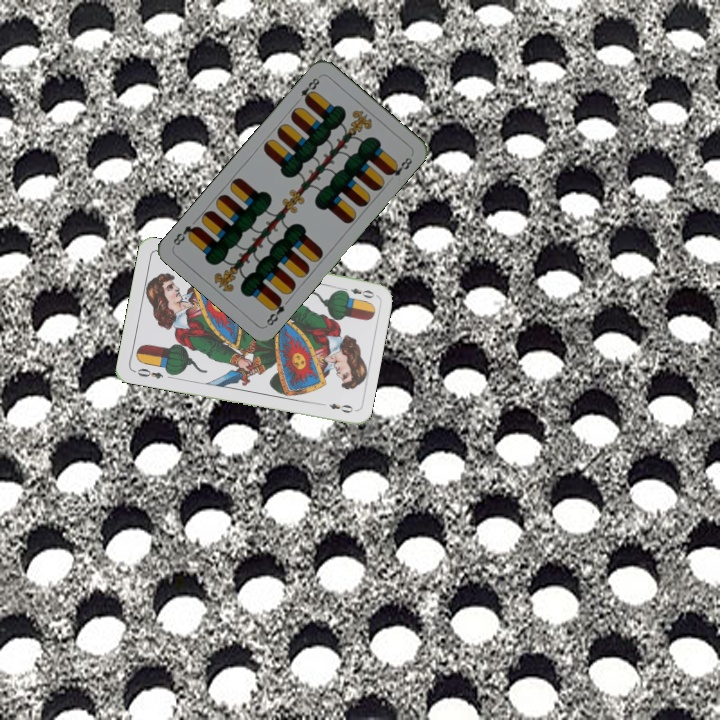E8: (296, 72, 323, 106), (262, 293, 287, 328)
EO: (337, 283, 377, 301), (130, 364, 166, 381)
